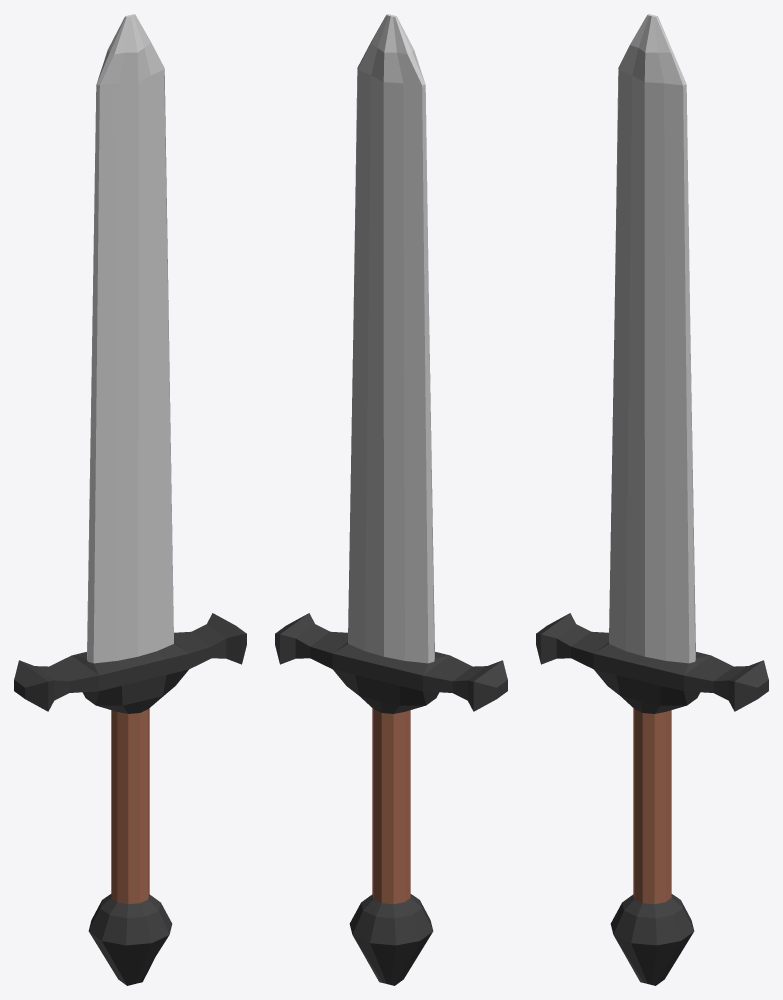
The model's file is Sword Short.fbx.
3 renders of one model, left to right at view 1: azimuth 30°, elevation 25°; view 2: azimuth 150°, elevation 25°; view 3: azimuth 330°, elevation 25°, orthographic.
Visible parts, largest first — view 1: Sword Short; view 2: Sword Short; view 3: Sword Short.
Boxes of the visible parts, bbox=[...] form: Sword Short: bbox=[14, 14, 246, 985]; Sword Short: bbox=[275, 14, 507, 985]; Sword Short: bbox=[536, 14, 768, 985].
Size of the model in its own units: 25.83 by 107 by 8.63.
